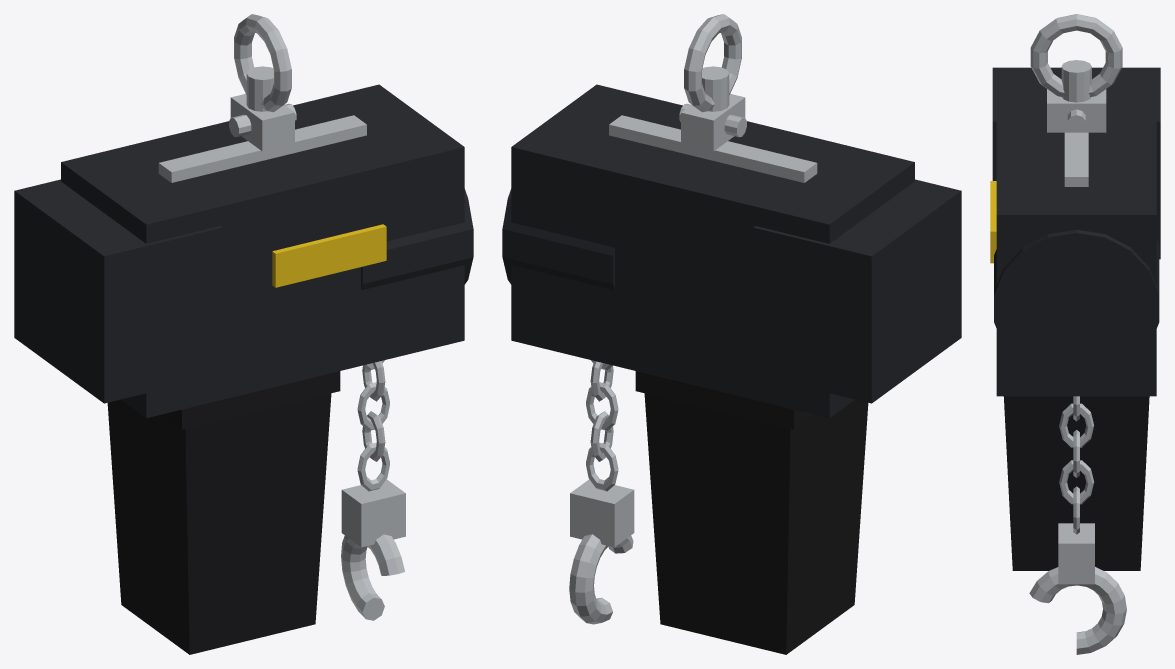
File: chain-motor.glb
3 views of the same model, side by side, from view 1: azimuth 30°, elevation 25°; view 2: azimuth 150°, elevation 25°; view 3: azimuth 270°, elevation 25° (orthographic). The views are drawn at different scales.
Visible parts, largest first — view 1: motor-body, chain-bag, motor-shackle, load-hook, motor-plate, motor-handle, load-chain; view 2: motor-body, chain-bag, motor-shackle, load-hook, motor-handle, load-chain; view 3: motor-body, chain-bag, motor-shackle, load-hook, load-chain, motor-handle, motor-plate.
Boxes of the visible parts, box(x1,y1,x2,y2) form: motor-body: box(14, 84, 473, 418); chain-bag: box(107, 371, 340, 654); motor-shackle: box(229, 14, 296, 151); load-hook: box(341, 479, 405, 620); motor-plate: box(272, 224, 386, 287); motor-handle: box(158, 115, 366, 182); load-chain: box(357, 360, 389, 491); motor-body: box(502, 84, 961, 418); chain-bag: box(635, 371, 868, 654); motor-shackle: box(679, 14, 746, 151); load-hook: box(569, 479, 634, 624); motor-handle: box(609, 115, 817, 182); load-chain: box(586, 360, 618, 491); motor-body: box(992, 67, 1160, 396); chain-bag: box(1003, 396, 1149, 570); motor-shackle: box(1030, 14, 1122, 132); load-hook: box(1029, 523, 1126, 654); load-chain: box(1059, 396, 1094, 534); motor-handle: box(1064, 132, 1088, 186); motor-plate: box(990, 181, 996, 263).
Bounding box in the file's own units: 0.5 × 0.814 × 0.213.
